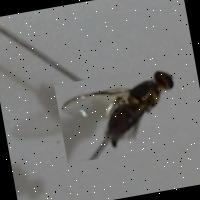Oriental-fruit-fly: (53, 63, 192, 164)
